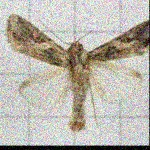Spodoptera litura: (4, 13, 149, 132)
